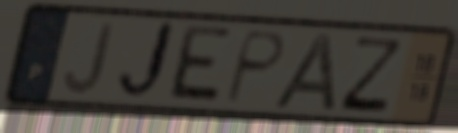A: (269, 30, 340, 114)
E: (162, 22, 236, 108)
J: (113, 18, 180, 106), (61, 20, 117, 97)
P: (220, 27, 290, 107)
Z: (335, 34, 407, 116)
